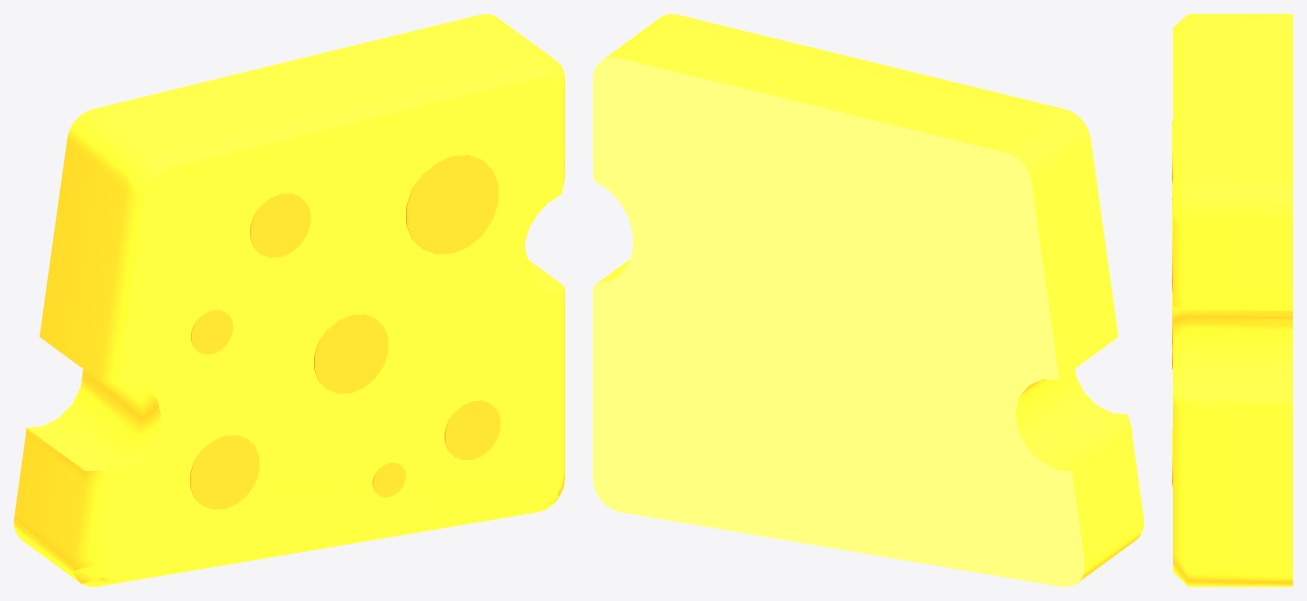
3 renders of one model, left to right at view 1: azimuth 30°, elevation 25°; view 2: azimuth 150°, elevation 25°; view 3: azimuth 270°, elevation 25°, orthographic. The views are drawn at different scales.
Parts seen in each view (by area): view 1: Cheese-left; view 2: Cheese-left; view 3: Cheese-left.
Part boxes in pixels (<box>): Cheese-left: <box>14,14,564,586</box>; Cheese-left: <box>593,14,1143,586</box>; Cheese-left: <box>1172,14,1292,586</box>.
Size of the model in its own units: 0.8864 by 0.7818 by 0.2136.
